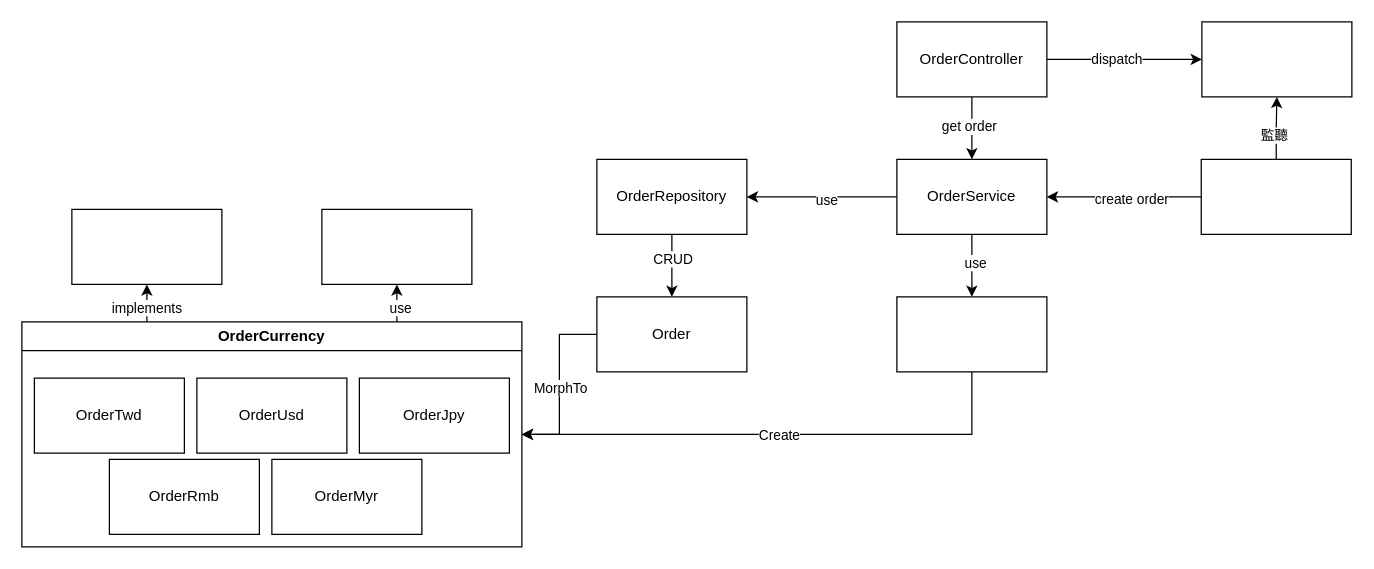
This 1374x569 diagram has some shape labels left out. Here are the shapes that lost their labels. From the top down, the centre of each, then its label:
[1276,59]: OrderCreateEvent
[1275,196]: OrderCreateListerner
[146,246]: OrderCurrencyInterface
[396,246]: OrderCurrencyTrait
[971,334]: OrderCurrencyRepository
